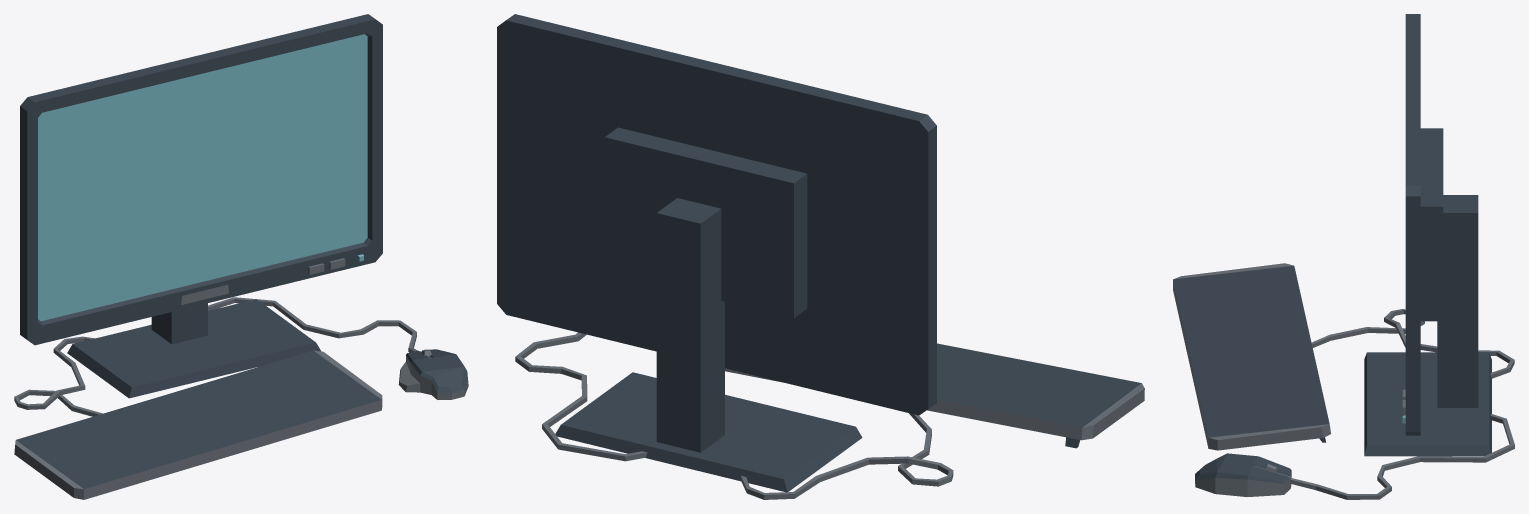
File: Computer.FBX
The picture shows the model from 3 angles, left to right: view 1: azimuth 30°, elevation 25°; view 2: azimuth 150°, elevation 25°; view 3: azimuth 270°, elevation 25°; orthographic projection. The views are drawn at different scales.
Parts seen in each view (by area): view 1: Computer; view 2: Computer; view 3: Computer.
Part boxes in pixels (bbox=[...]): Computer: bbox=[14, 14, 468, 499]; Computer: bbox=[497, 14, 1144, 499]; Computer: bbox=[1173, 14, 1514, 499].
Size of the model in its own units: 86.38 by 57.18 by 57.43.
